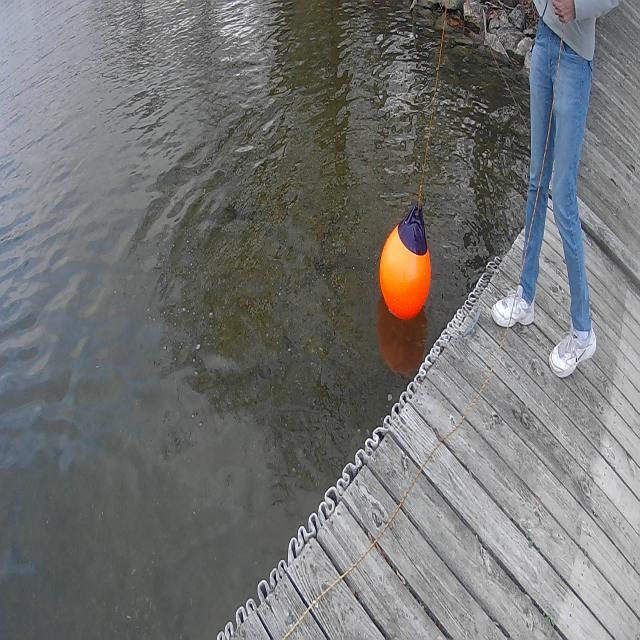Buoy: (376, 199, 434, 330)
